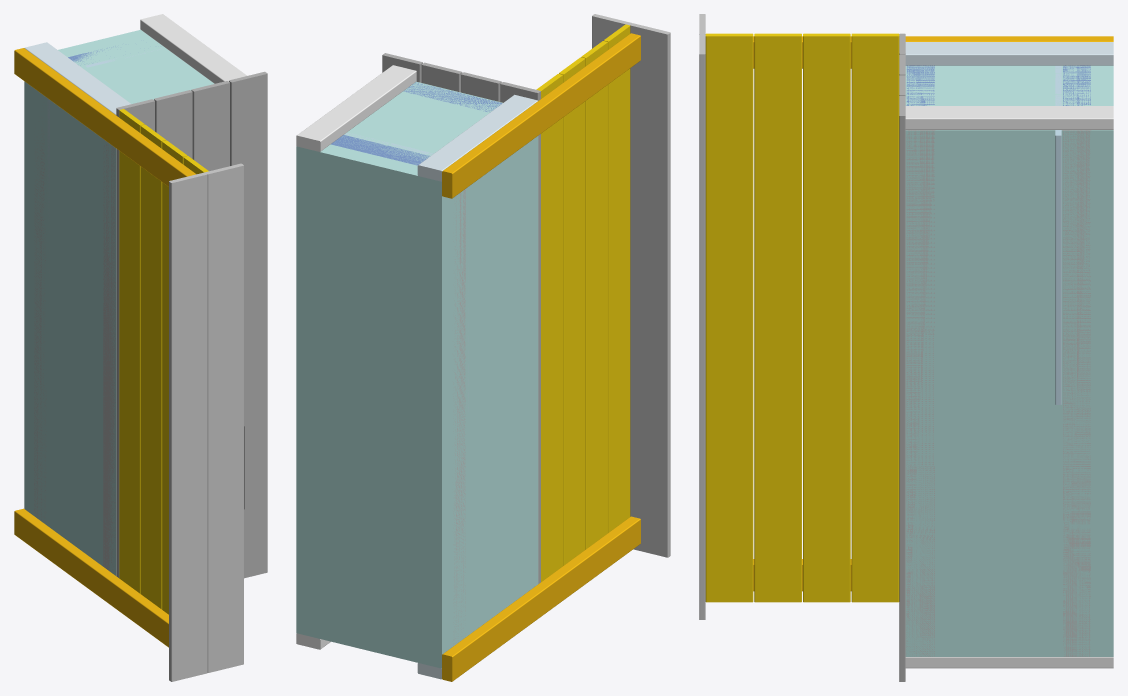
File: mud-kitchen.gltf
3 views of the same model, side by side, from view 1: azimuth 30°, elevation 25°; view 2: azimuth 150°, elevation 25°; view 3: azimuth 270°, elevation 25° (orthographic). The views are drawn at different scales.
Visible parts, largest first — view 1: Part 1, Part 29, Part 20, Part 21, Part 22, Part 17, Part 16, Part 3, Part 23, Part 31, Part 14, Part 18 (+3 smaller); view 2: Part 1, Part 29, Part 24, Part 22, Part 23, Part 21, Part 17, Part 16, Part 14, Part 8, Part 15, Part 18 (+4 smaller); view 3: Part 1, Part 21, Part 24, Part 23, Part 22, Part 7, Cross Beam Supports, Part 14, Part 15, Part 29, Part 20, Part 12 (+4 smaller).
Part boxes in pixels (box(x1,y1,x2,y2)): Part 1: box(24, 29, 214, 575); Part 29: box(169, 163, 243, 681); Part 20: box(229, 71, 267, 578); Part 21: box(119, 109, 144, 593); Part 22: box(140, 124, 165, 609); Part 17: box(14, 48, 195, 186); Part 16: box(14, 508, 168, 647); Part 3: box(103, 140, 115, 571); Part 23: box(162, 140, 187, 614); Part 31: box(191, 81, 229, 171); Part 14: box(140, 14, 246, 83); Part 18: box(116, 99, 154, 577); Part 1: box(296, 81, 538, 668); Part 29: box(592, 14, 670, 557); Part 24: box(604, 24, 630, 532); Part 22: box(559, 57, 585, 565); Part 23: box(581, 41, 607, 549); Part 21: box(536, 74, 562, 581); Part 17: box(442, 33, 640, 198); Part 16: box(442, 516, 640, 681); Part 14: box(296, 65, 416, 151); Part 8: box(453, 189, 465, 644); Part 15: box(417, 94, 537, 181); Part 18: box(500, 82, 540, 583); Part 1: box(905, 65, 1113, 656); Part 21: box(851, 33, 899, 602); Part 24: box(705, 33, 753, 602); Part 23: box(754, 33, 801, 602); Part 22: box(803, 33, 850, 602); Part 7: box(1062, 130, 1091, 656); Cross Beam Supports: box(906, 130, 935, 656); Part 14: box(905, 106, 1113, 129); Part 15: box(905, 42, 1113, 65); Part 29: box(699, 14, 705, 619); Part 20: box(899, 96, 905, 681); Part 12: box(905, 657, 1113, 668).
Size of the model in its own units: 0.708 by 1.83 by 1.21.
